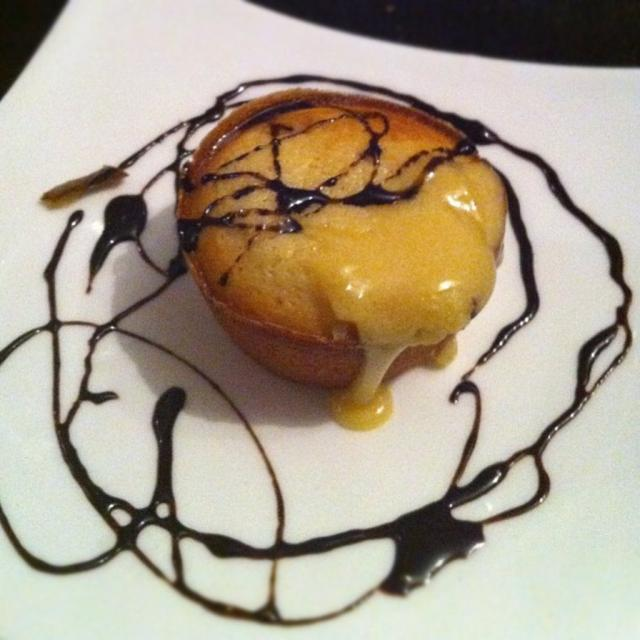Muffin: (166, 85, 514, 395)
